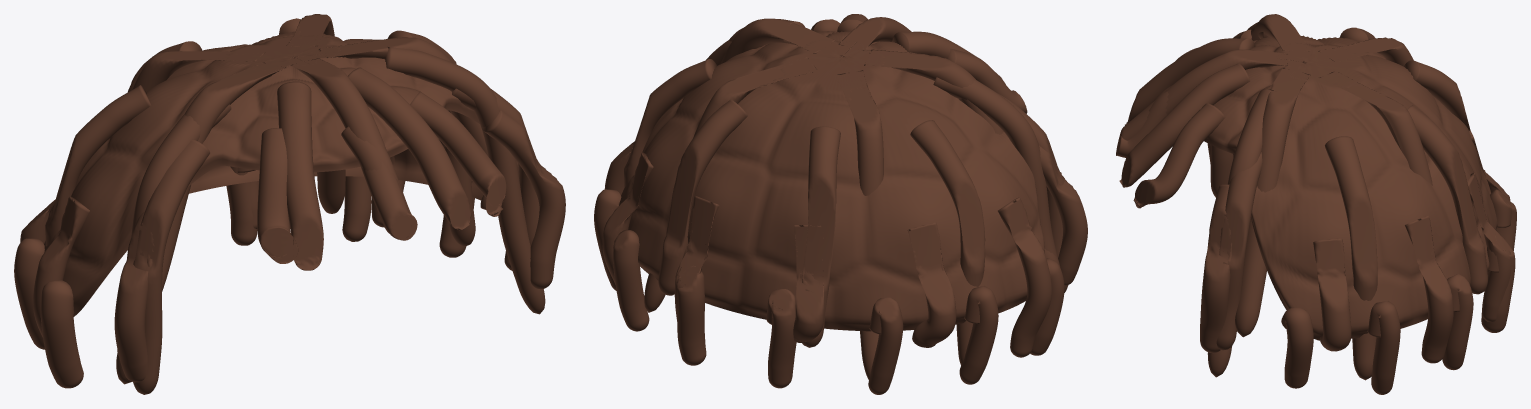
Rendered from Masculine-locs-bucket252-hair.glb.
3 renders of one model, left to right at view 1: azimuth 30°, elevation 25°; view 2: azimuth 150°, elevation 25°; view 3: azimuth 270°, elevation 25°, orthographic. The views are drawn at different scales.
Visible parts, largest first — view 1: 226 hair / Hair252 / sectioned locs.001; view 2: 226 hair / Hair252 / sectioned locs.001; view 3: 226 hair / Hair252 / sectioned locs.001.
Boxes of the visible parts, <box> form: 226 hair / Hair252 / sectioned locs.001: <box>14,14,565,394</box>; 226 hair / Hair252 / sectioned locs.001: <box>594,14,1087,394</box>; 226 hair / Hair252 / sectioned locs.001: <box>1116,14,1516,394</box>.
Size of the model in its own units: 1.1 by 0.619 by 0.8815.
